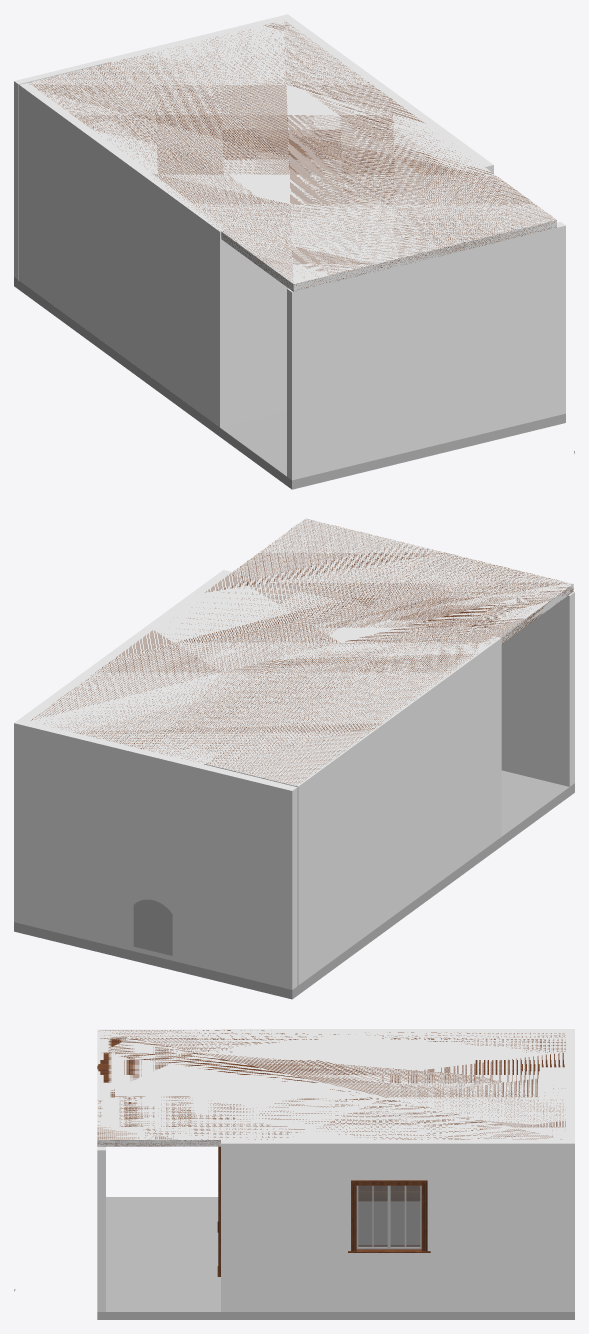
Rendered from VICTORIAN_ROOM_02.dae.
3 views of the same model, one above another, from view 1: azimuth 30°, elevation 25°; view 2: azimuth 150°, elevation 25°; view 3: azimuth 270°, elevation 25° (orthographic). The views are drawn at different scales.
Visible parts, largest first — view 1: Component_103, Component_34, Component_38, Component_15, Component_1, Component_2, Component_6; view 2: Component_103, Component_2 (×2), Component_38, Component_34, Component_1, Component_6; view 3: Component_6, Component_103, Component_1, Group_4 (×4), Component_2, Component_34, Component_38, Component_40, base57a, Component_44, Component_41.
Boxes of the visible parts, bbox=[...] form: Component_103: bbox=[28, 20, 556, 291]; Component_34: bbox=[287, 222, 565, 480]; Component_38: bbox=[18, 80, 228, 427]; Component_15: bbox=[229, 245, 287, 425]; Component_1: bbox=[14, 277, 565, 489]; Component_2: bbox=[14, 16, 283, 280]; Component_6: bbox=[279, 14, 493, 173]; Component_103: bbox=[28, 518, 573, 786]; Component_2 (×2): bbox=[23, 721, 298, 989]; Component_38: bbox=[283, 636, 501, 988]; Component_34: bbox=[291, 524, 574, 786]; Component_1: bbox=[14, 770, 574, 999]; Component_6: bbox=[14, 570, 231, 924]; Component_6: bbox=[221, 1140, 574, 1311]; Component_103: bbox=[97, 1029, 565, 1146]; Component_1: bbox=[97, 1197, 574, 1319]; Group_4 (×4): bbox=[358, 1185, 420, 1246]; Component_2: bbox=[540, 1029, 574, 1139]; Component_34: bbox=[97, 1146, 105, 1311]; Component_38: bbox=[221, 1029, 573, 1032]; Component_40: bbox=[351, 1180, 427, 1251]; base57a: bbox=[358, 1191, 419, 1200]; Component_44: bbox=[356, 1185, 389, 1249]; Component_41: bbox=[348, 1245, 430, 1252].
Size of the model in its own units: 186 by 380 by 132.
